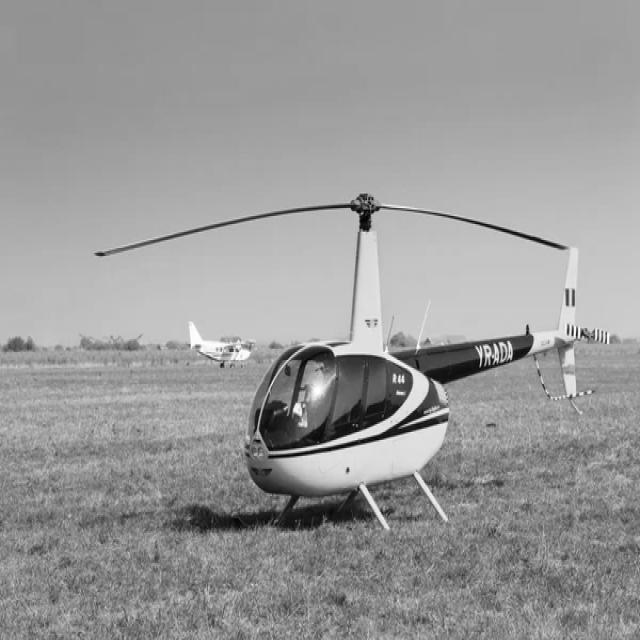Helicopter: (96, 193, 610, 530)
